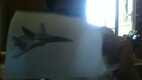maybay_muctieu: (12, 23, 73, 58)
